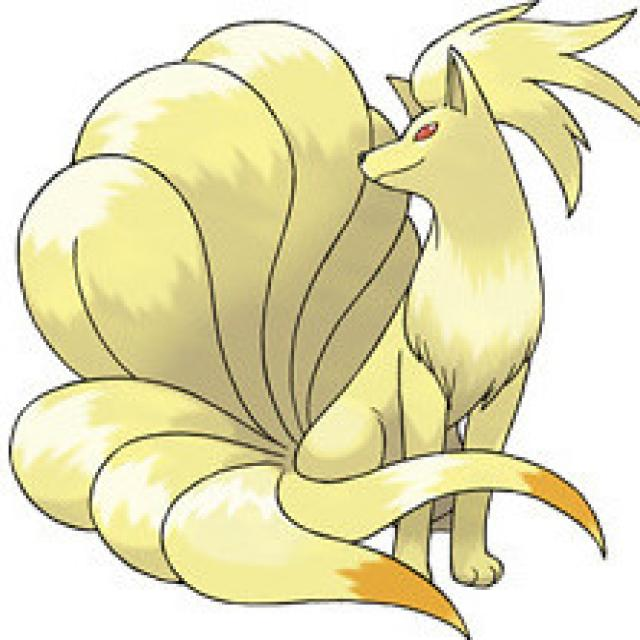Ninetales: (132, 51, 544, 585)
